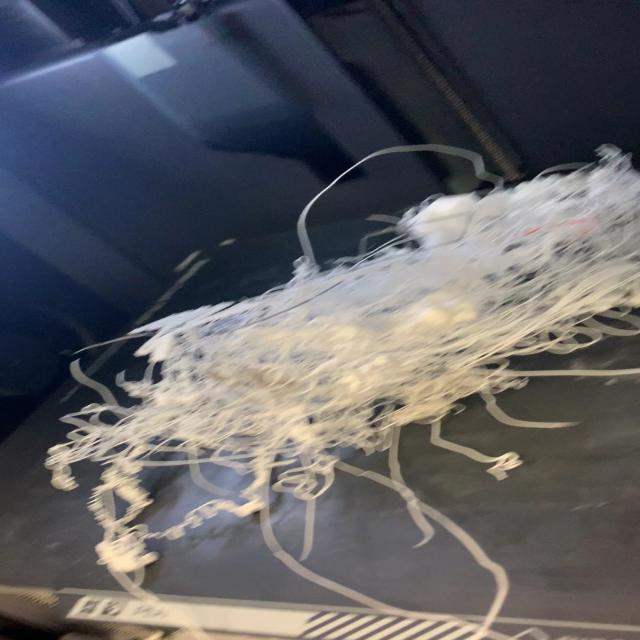spaghetti: (31, 140, 636, 636)
